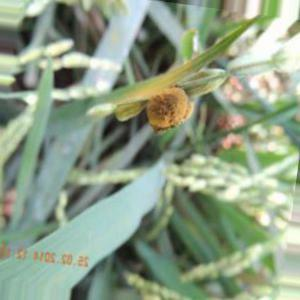Leaf_Scald: (138, 78, 196, 135)
